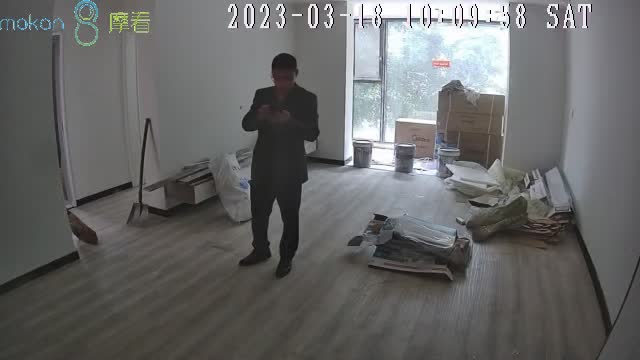people: (240, 52, 320, 278)
window: (352, 1, 505, 148)
